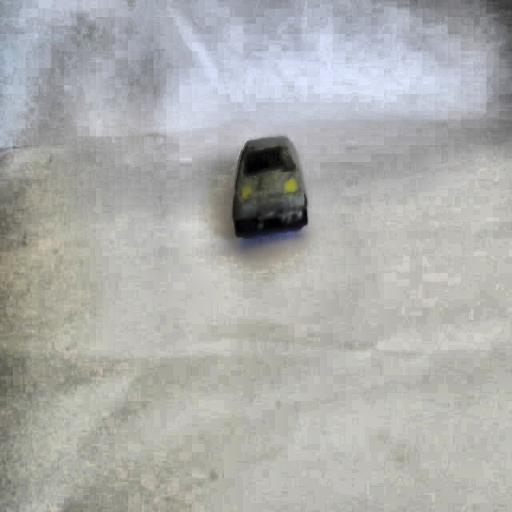normal_car: (226, 134, 310, 244)
